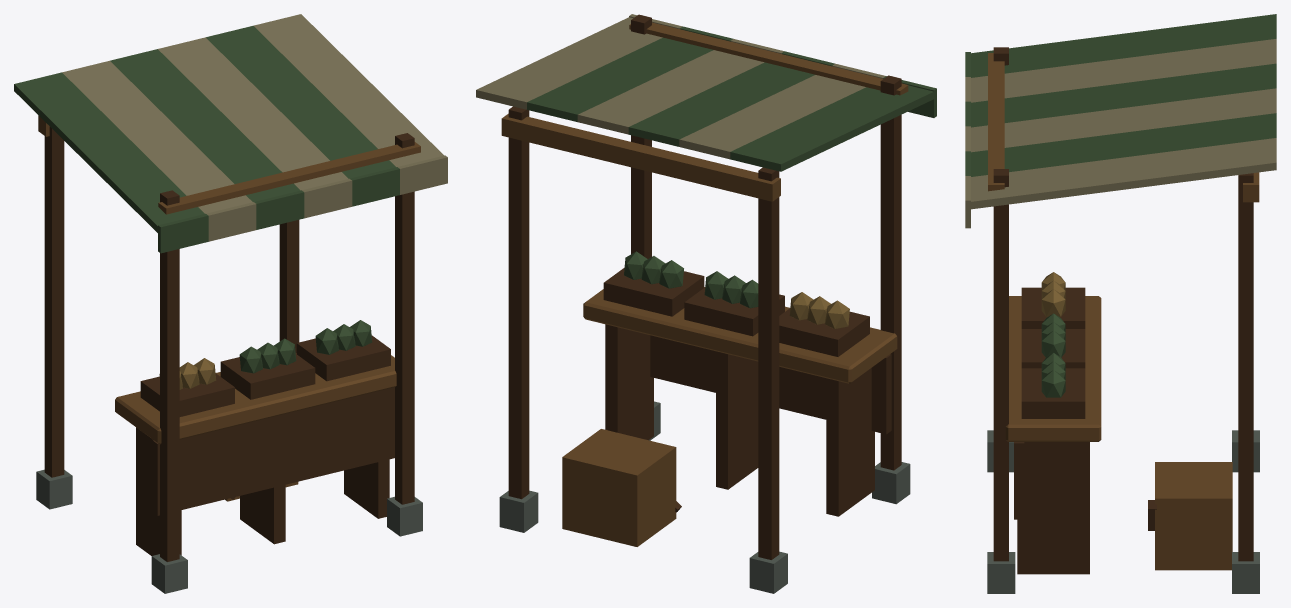
Rendered from SM_ENV_Building_03_Market.glb.
3 renders of one model, left to right at view 1: azimuth 30°, elevation 25°; view 2: azimuth 150°, elevation 25°; view 3: azimuth 270°, elevation 25°, orthographic. The views are drawn at different scales.
Visible parts, largest first — view 1: SM_ENV_Building_03_Market; view 2: SM_ENV_Building_03_Market; view 3: SM_ENV_Building_03_Market.
Part boxes in pixels (x1,y1,x2,y2): SM_ENV_Building_03_Market: [14, 14, 447, 593]; SM_ENV_Building_03_Market: [476, 14, 936, 593]; SM_ENV_Building_03_Market: [965, 14, 1276, 593].
Size of the model in its own units: 2.76 by 3.8 by 2.44.
